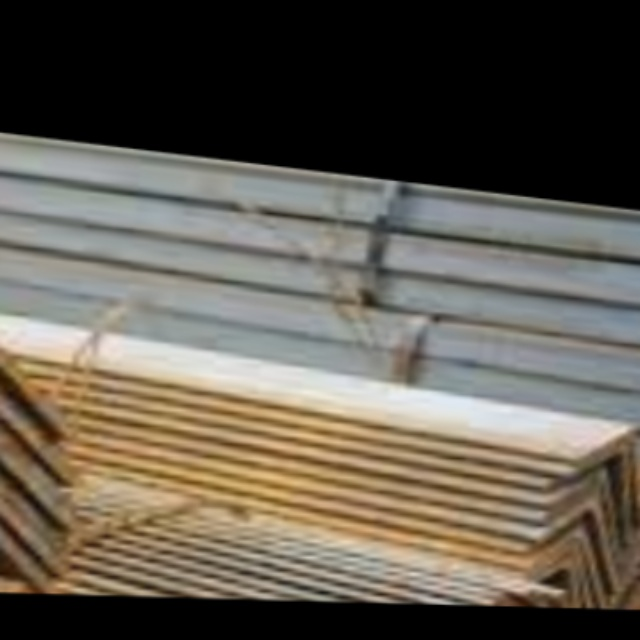Angle: (0, 381, 82, 517), (0, 430, 74, 562), (0, 330, 66, 460), (533, 511, 623, 585), (0, 489, 63, 593), (0, 467, 59, 576), (577, 433, 640, 523), (0, 517, 63, 594)
